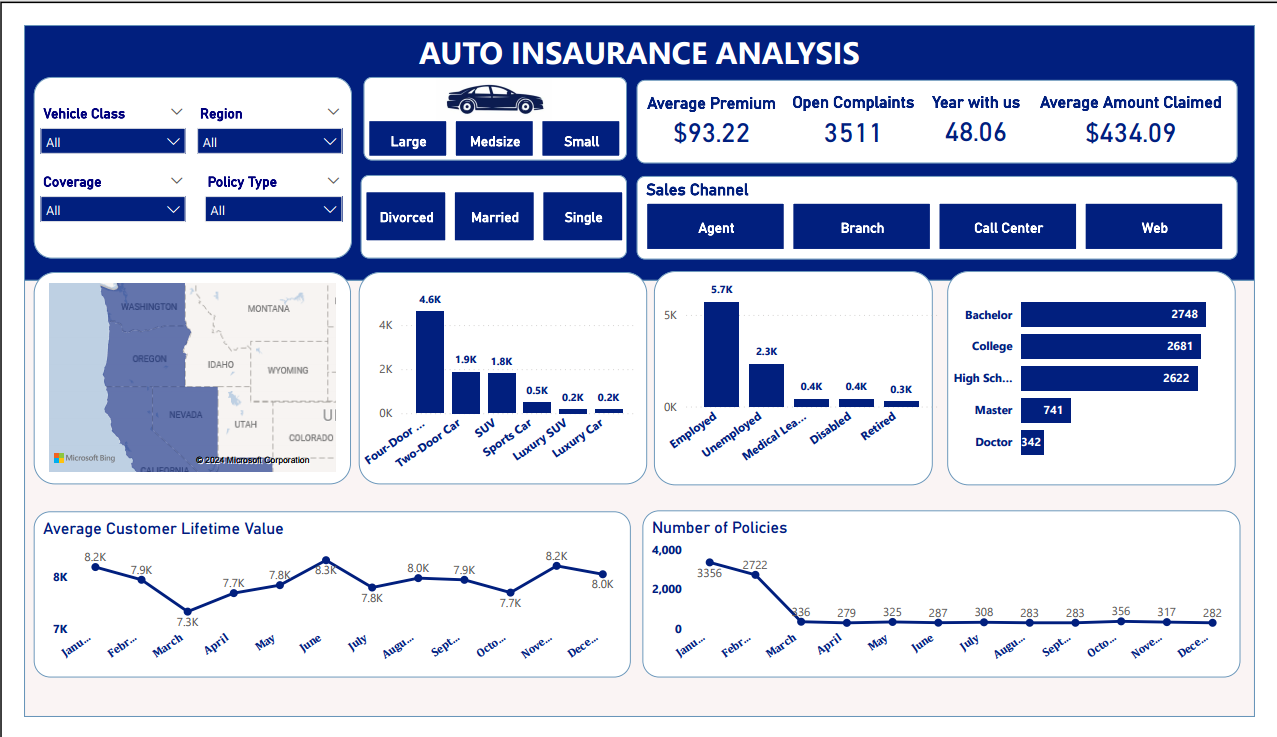

What the dashboard file says about the page in this screenshot:
{"tool":"powerbi","page":{"name":"Page 1","canvas":[1280,720],"ordinal":0},"visuals":[{"type":"group","id":"g1","title":"Group 2","box":[0,0,1280.2,719.8],"z":0},{"type":"shape","box":[650.8,189.4,198.7,158.1],"z":0},{"type":"shape","box":[0,236,1280.2,483.7],"z":0,"group":"g1"},{"type":"shape","box":[0,0,1280.2,236],"z":500,"group":"g1"},{"type":"shape","box":[1074.7,189.4,198.7,158.1],"z":1000},{"type":"shape","box":[650.8,4.8,622,80.5],"z":2000,"group":"g5"},{"type":"shape","box":[650.8,93.7,622,80.5],"z":2000,"group":"g6"},{"type":"shape","box":[863.8,187.3,197.5,158.5],"z":2000},{"type":"shape","box":[970.2,486.3,302.6,223.3],"z":2000},{"type":"textbox","box":[0,0,614.8,55.2],"z":3000},{"type":"shape","box":[9.6,64.8,440.7,275],"z":3000,"group":"g2"},{"type":"shape","box":[969.7,355.7,303.7,115.1],"z":3000,"group":"g7"},{"type":"shape","box":[18,360.2,622,163.3],"z":3000,"group":"g3"},{"type":"group","id":"g2","title":"Group 3","box":[9.6,64.8,440.7,275],"z":4000},{"type":"filledMap","fields":{"Category":["data.State"]},"box":[29.4,73.6,402.3,261.8],"z":4000,"group":"g2"},{"type":"shape","box":[650.8,355.7,303.7,115.1],"z":4000},{"type":"lineChart","title":"Average Customer Lifetime Value","fields":{"Y":["Avg(data.Customer Lifetime Value)"],"Category":["data.Effective To Date.Variation.Date Hierarchy.Month"]},"box":[22.8,367.9,612.4,149.1],"z":4000,"group":"g3"},{"type":"shape","box":[18,535.5,622,174.1],"z":4000,"group":"g4"},{"type":"group","id":"g3","title":"Group 4","box":[18,360.2,622,163.3],"z":5000},{"type":"lineChart","title":"Number of Policies","fields":{"Category":["data.Effective To Date.Variation.Date Hierarchy.Month"],"Y":["CountNonNull(data.Number of Policies)"]},"box":[22.8,543.7,612.4,158.9],"z":5000,"group":"g4"},{"type":"image","box":[1055.5,335,130.9,106.9],"z":5500,"group":"g7"},{"type":"group","id":"g4","title":"Group 5","box":[18,535.5,622,174.1],"z":6000},{"type":"group","id":"g5","title":"Group 6","box":[650.8,4.8,622,80.5],"z":7000},{"type":"card","title":"Open Complaints","fields":{"Values":["Sum(data.Number of Open Complaints)"]},"box":[806.9,17,136.9,56.4],"z":8000,"group":"g5"},{"type":"advancedSlicerVisual","fields":{"Values":["data.Vehicle Size"]},"box":[983.4,403.4,276.2,57.6],"z":8000,"group":"g7"},{"type":"card","title":"Year with us","fields":{"Values":["Avg(data.Months Since Policy Inception)"]},"box":[950.2,17,103.3,55.2],"z":9000,"group":"g5"},{"type":"advancedSlicerVisual","fields":{"Values":["data.Sales Channel"]},"box":[655.6,97.3,608.7,73.2],"z":9000,"group":"g6"},{"type":"shape","box":[652,481.5,302.6,228.1],"z":9000},{"type":"card","title":"Average Amount Claimed","fields":{"Values":["Avg(data.Total Claim Amount)"]},"box":[1059.9,16.6,204.6,56.7],"z":10000,"group":"g5"},{"type":"clusteredBarChart","fields":{"Category":["data.Education"],"Y":["CountNonNull(data.Education)"]},"box":[647.2,495.9,323,204.1],"z":10000},{"type":"card","title":"Average Premium","fields":{"Values":["Avg(data.Monthly Premium Auto)"]},"box":[656.5,17.6,144,54.9],"z":11000,"group":"g5"},{"type":"group","id":"g6","title":"Group 8","box":[650.8,93.7,622,80.5],"z":11000},{"type":"group","id":"g7","title":"Group 1","box":[969.7,335,303.7,135.8],"z":11001}]}

Visuals, with their boxes in screenshot pixels (x1, y1, x2, y2), scaled from the page's 1280x720 canvas onto the 1277x737 screenshot:
"Group 2" group: x1=0, y1=0, x2=1276, y2=736
shape: x1=649, y1=194, x2=848, y2=356
shape: x1=0, y1=242, x2=1276, y2=736
shape: x1=0, y1=0, x2=1276, y2=242
shape: x1=1072, y1=194, x2=1270, y2=356
shape: x1=649, y1=5, x2=1270, y2=87
shape: x1=649, y1=96, x2=1270, y2=178
shape: x1=862, y1=192, x2=1059, y2=354
shape: x1=968, y1=498, x2=1270, y2=726
textbox: x1=0, y1=0, x2=613, y2=57
shape: x1=10, y1=66, x2=449, y2=348
shape: x1=967, y1=364, x2=1270, y2=482
shape: x1=18, y1=369, x2=638, y2=536
"Group 3" group: x1=10, y1=66, x2=449, y2=348
filledMap - data.State: x1=29, y1=75, x2=431, y2=343
shape: x1=649, y1=364, x2=952, y2=482
"Average Customer Lifetime Value" lineChart: x1=23, y1=377, x2=634, y2=529
shape: x1=18, y1=548, x2=638, y2=726
"Group 4" group: x1=18, y1=369, x2=638, y2=536
"Number of Policies" lineChart: x1=23, y1=557, x2=634, y2=719
image: x1=1053, y1=343, x2=1184, y2=452
"Group 5" group: x1=18, y1=548, x2=638, y2=726
"Group 6" group: x1=649, y1=5, x2=1270, y2=87
"Open Complaints" card: x1=805, y1=17, x2=942, y2=75
advancedSlicerVisual - data.Vehicle Size: x1=981, y1=413, x2=1257, y2=472
"Year with us" card: x1=948, y1=17, x2=1051, y2=74
advancedSlicerVisual - data.Sales Channel: x1=654, y1=100, x2=1261, y2=175
shape: x1=650, y1=493, x2=952, y2=726
"Average Amount Claimed" card: x1=1057, y1=17, x2=1262, y2=75
clusteredBarChart - data.Education x CountNonNull(data.Education): x1=646, y1=508, x2=968, y2=717
"Average Premium" card: x1=655, y1=18, x2=799, y2=74
"Group 8" group: x1=649, y1=96, x2=1270, y2=178
"Group 1" group: x1=967, y1=343, x2=1270, y2=482
